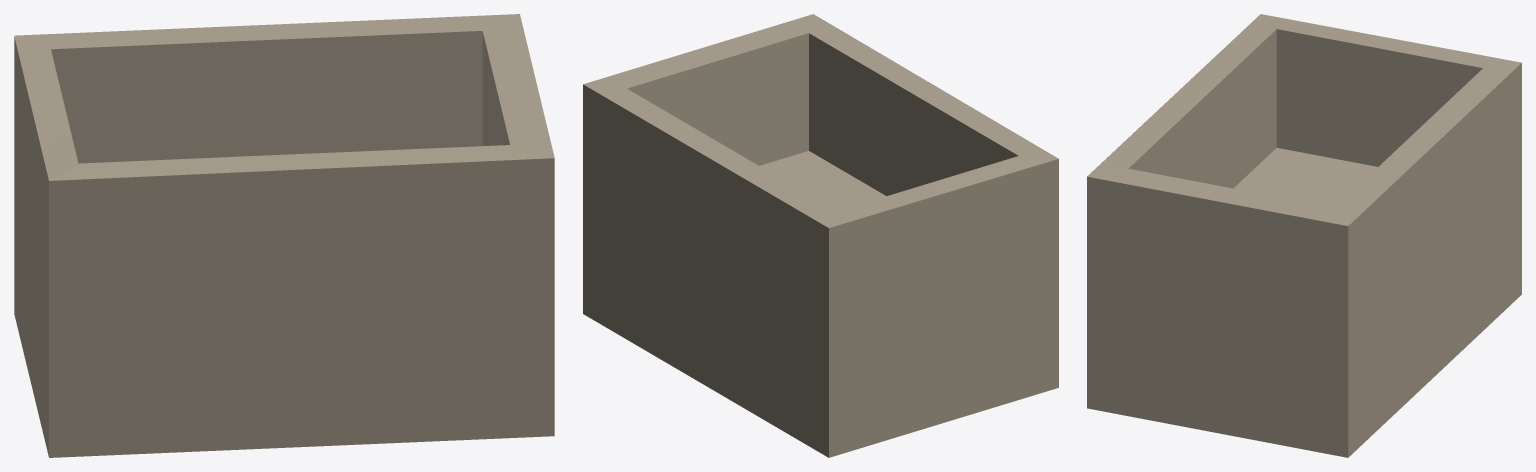
The model's file is MSH_QuestObject_box_01.fbx.
3 renders of one model, left to right at view 1: azimuth 30°, elevation 25°; view 2: azimuth 150°, elevation 25°; view 3: azimuth 270°, elevation 25°, orthographic. The views are drawn at different scales.
Parts seen in each view (by area): view 1: MSH_QuestObject_box_01; view 2: MSH_QuestObject_box_01; view 3: MSH_QuestObject_box_01.
Boxes of the visible parts, <box> form: MSH_QuestObject_box_01: <box>14,14,554,457</box>; MSH_QuestObject_box_01: <box>583,14,1058,457</box>; MSH_QuestObject_box_01: <box>1087,14,1521,457</box>.
Size of the model in its own units: 0.8614 by 0.4372 by 0.7433.
